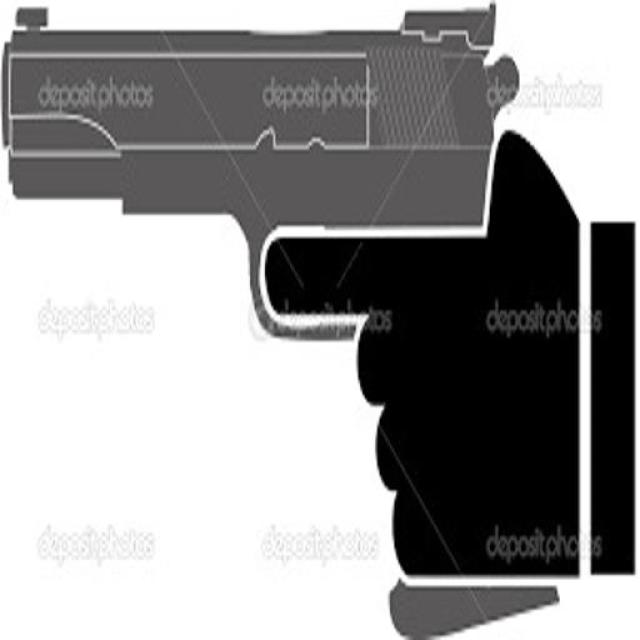pistol: (8, 4, 549, 640)
